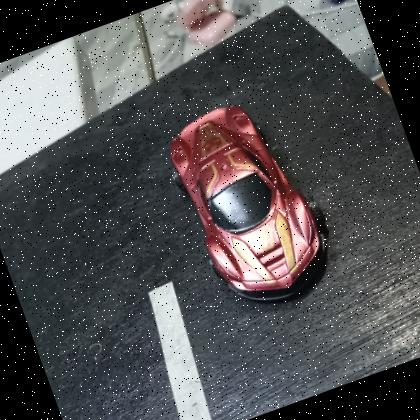Car: (150, 81, 350, 327)
